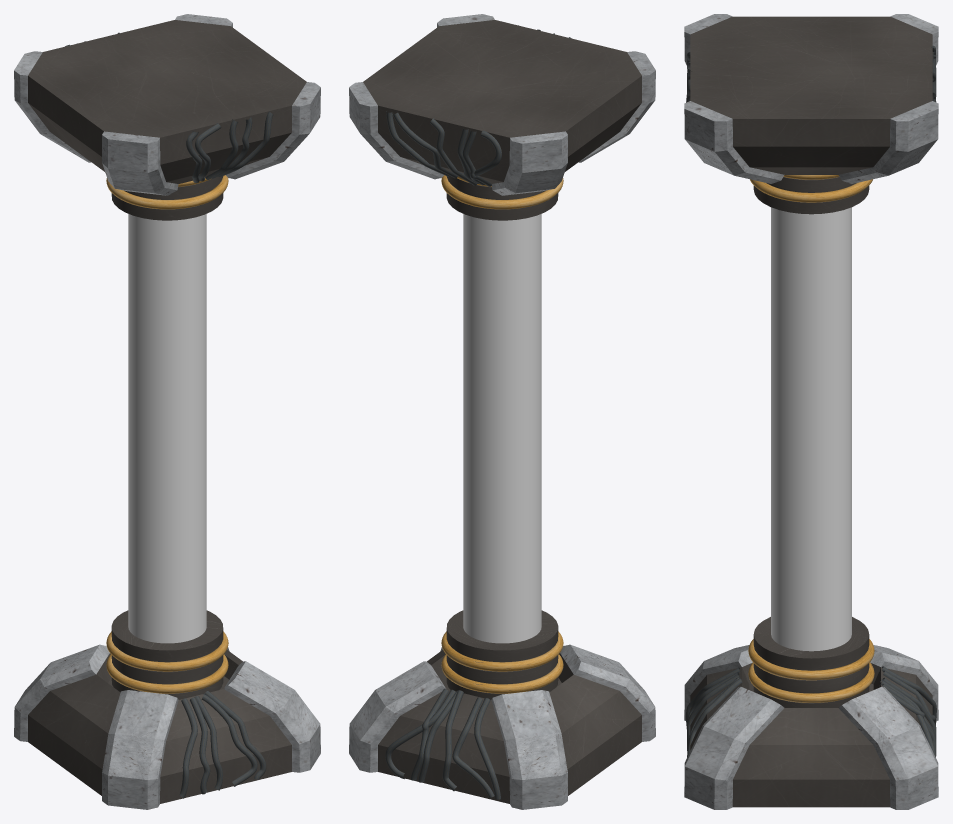
File: LaserUnit.fbx
3 renders of one model, left to right at view 1: azimuth 30°, elevation 25°; view 2: azimuth 150°, elevation 25°; view 3: azimuth 270°, elevation 25°, orthographic. The views are drawn at different scales.
Parts seen in each view (by area): view 1: LaserBeam, Base.002, Base, Laser_Plates, Laser_Plates.001, Laser, Laser_Cables, Laser_Rings, Laser_Cables.001, Laser.001, Laser_Rings.001; view 2: LaserBeam, Base.002, Base, Laser_Plates, Laser_Plates.001, Laser, Laser_Cables, Laser_Rings, Laser_Cables.001, Laser.001, Laser_Rings.001; view 3: LaserBeam, Base.002, Laser_Plates, Base, Laser_Plates.001, Laser, Laser_Cables, Laser_Rings, Laser.001, Laser_Rings.001.
Boxes of the visible parts, x1,y1,x2,y2 form: LaserBeam: [128, 214, 206, 643]; Base.002: [28, 20, 306, 183]; Base: [28, 650, 291, 803]; Laser_Plates: [14, 644, 320, 809]; Laser_Plates.001: [14, 14, 320, 195]; Laser: [111, 610, 223, 699]; Laser_Cables: [179, 691, 266, 798]; Laser_Rings: [106, 631, 228, 693]; Laser_Cables.001: [65, 32, 273, 183]; Laser.001: [111, 176, 223, 220]; Laser_Rings.001: [106, 175, 228, 209]; LaserBeam: [463, 214, 541, 643]; Base.002: [363, 20, 641, 183]; Base: [378, 650, 641, 803]; Laser_Plates: [349, 644, 655, 809]; Laser_Plates.001: [349, 14, 655, 195]; Laser: [446, 610, 558, 699]; Laser_Cables: [385, 688, 500, 799]; Laser_Rings: [441, 631, 563, 693]; Laser_Cables.001: [386, 25, 571, 186]; Laser.001: [446, 176, 558, 220]; Laser_Rings.001: [441, 175, 563, 209]; LaserBeam: [771, 207, 851, 651]; Base.002: [690, 16, 932, 174]; Laser_Plates: [684, 645, 938, 809]; Base: [690, 663, 932, 807]; Laser_Plates.001: [684, 14, 938, 183]; Laser: [753, 617, 869, 707]; Laser_Cables: [686, 666, 936, 757]; Laser_Rings: [748, 639, 874, 702]; Laser.001: [753, 177, 869, 214]; Laser_Rings.001: [750, 175, 872, 202].
Bounding box in the file's own units: 1.5 × 1.5 × 4.5.
